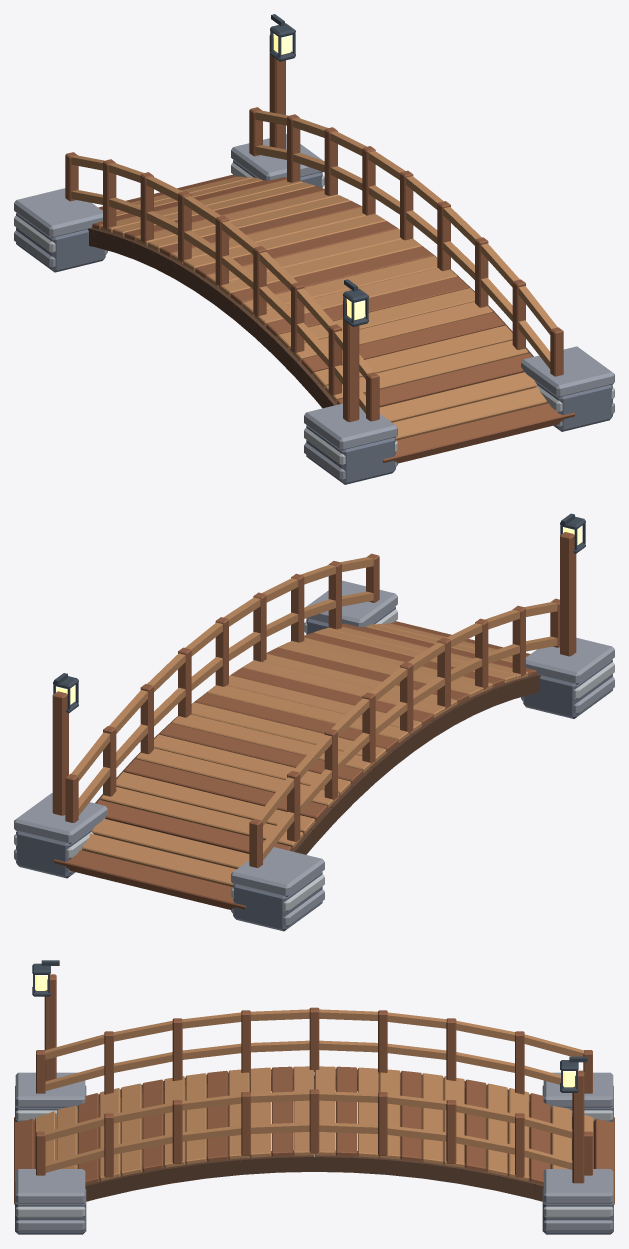
The model's file is bridge.glb.
3 views of the same model, one above another, from view 1: azimuth 30°, elevation 25°; view 2: azimuth 150°, elevation 25°; view 3: azimuth 270°, elevation 25° (orthographic). The views are drawn at different scales.
Parts seen in each view (by area): view 1: bridge_建筑共用调色板.020; view 2: bridge_建筑共用调色板.020; view 3: bridge_建筑共用调色板.020, bridge_glow.
Part boxes in pixels (x1=…): bridge_建筑共用调色板.020: x1=14, y1=14, x2=614, y2=484; bridge_建筑共用调色板.020: x1=14, y1=513, x2=614, y2=931; bridge_建筑共用调色板.020: x1=14, y1=960, x2=614, y2=1234; bridge_glow: x1=35, y1=975, x2=575, y2=1087.
Bounding box in the file's own units: 3.86 × 2.45 × 8.02.
2 materials, 1 textured.
